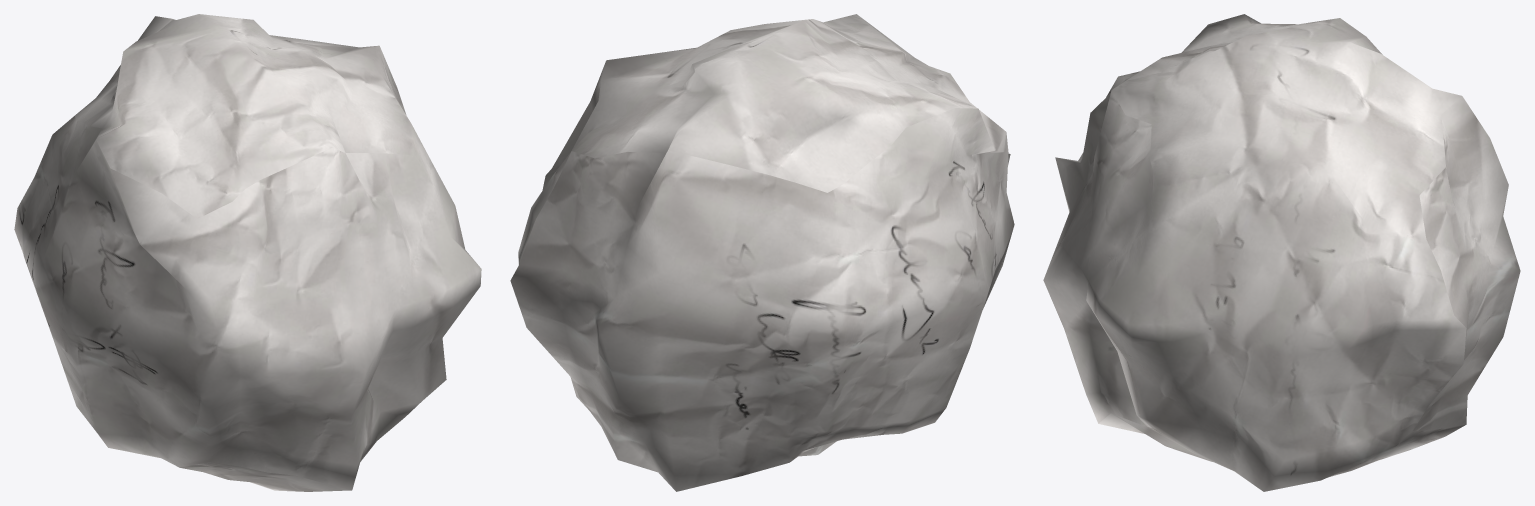
File: Robbers_T3ANI210_ScrunchedPaper_Abdilla.fbx
The picture shows the model from 3 angles, left to right: view 1: azimuth 30°, elevation 25°; view 2: azimuth 150°, elevation 25°; view 3: azimuth 270°, elevation 25°; orthographic projection. The views are drawn at different scales.
Visible parts, largest first — view 1: pCube1; view 2: pCube1; view 3: pCube1.
Part boxes in pixels (box(x1,y1,x2,y2)): pCube1: box(14, 14, 481, 491); pCube1: box(510, 14, 1014, 491); pCube1: box(1043, 14, 1520, 491).
Size of the model in its own units: 7.25 by 7.36 by 7.8.
1 material, 1 textured.
